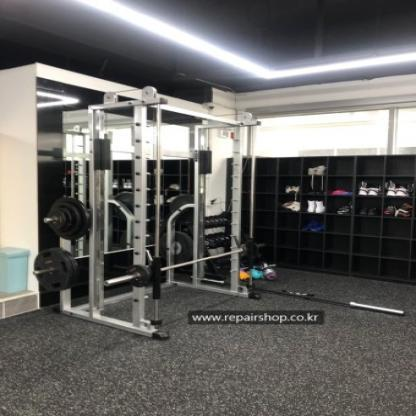smith machine: (50, 86, 265, 342)
